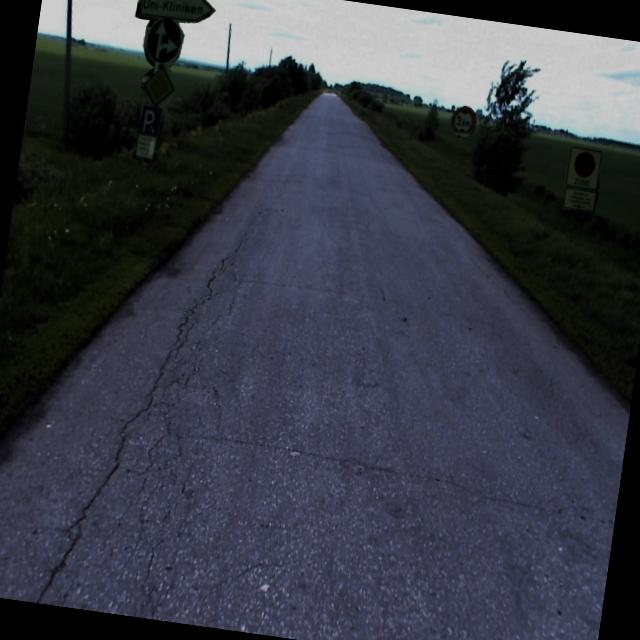road: (0, 93, 630, 640)
